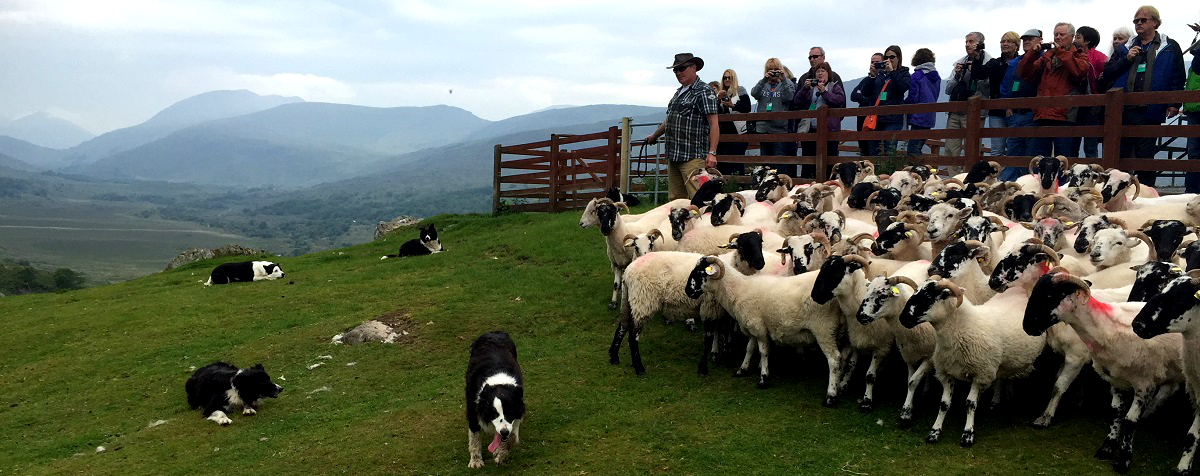sheep: (684, 252, 844, 401), (899, 275, 1024, 439), (571, 191, 671, 236), (807, 248, 859, 320), (854, 273, 918, 326), (920, 190, 973, 248), (723, 220, 773, 275), (871, 210, 920, 258), (620, 226, 668, 261), (706, 190, 747, 229), (666, 203, 702, 243), (755, 165, 788, 204), (827, 153, 862, 189)
